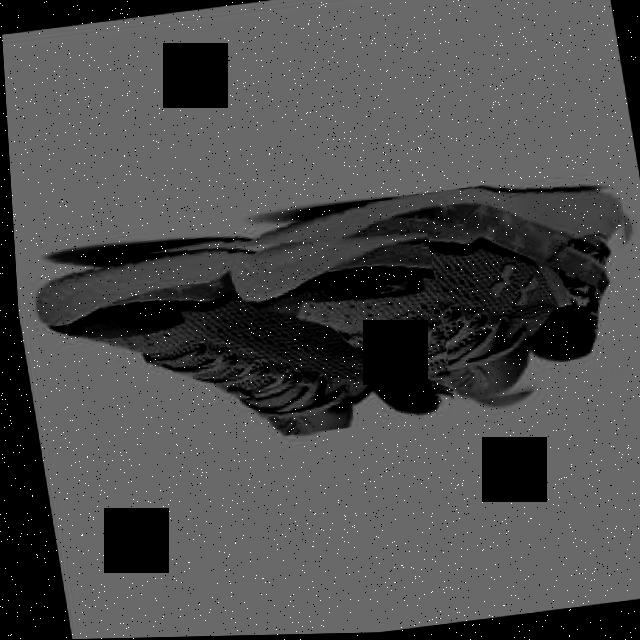shoe: (213, 170, 640, 438), (19, 212, 453, 465)
